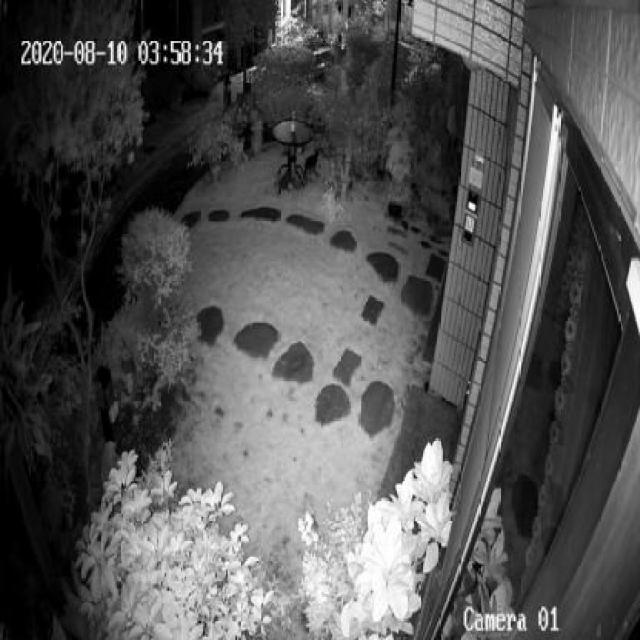animals: (300, 147, 322, 187)
